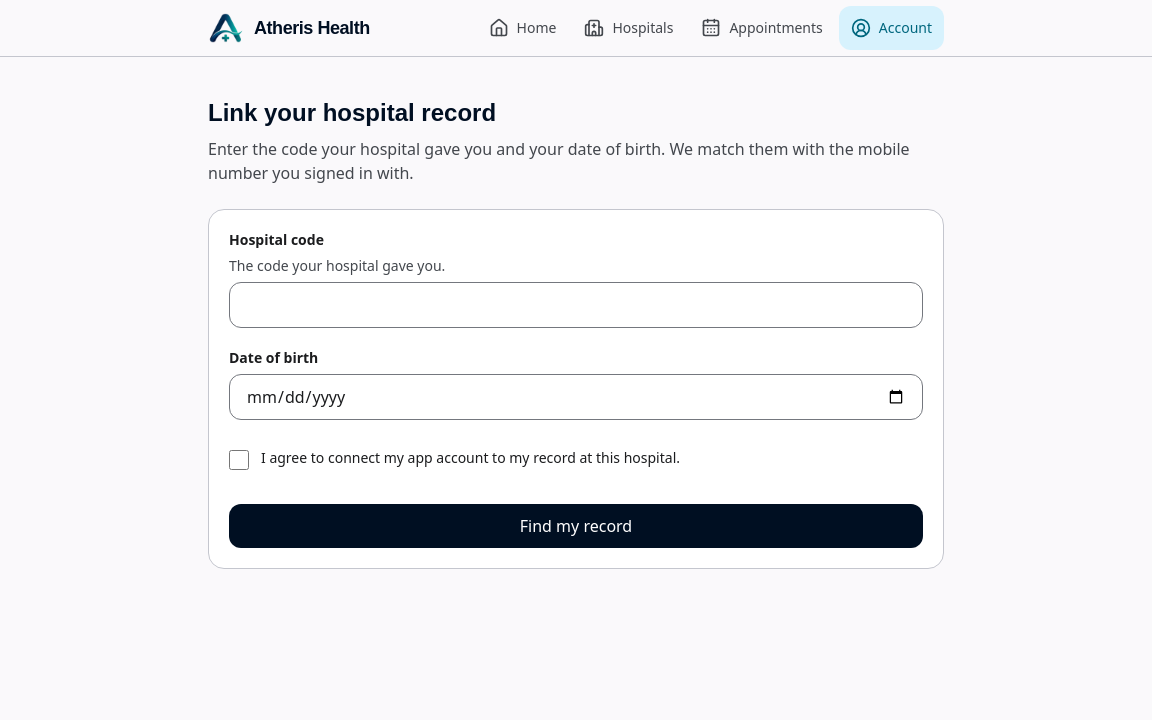
Test: link a hospital record › ALREADY LINKED — a 200 is reported as nothing having changed
Step 1. Type "city-care" into the field labelled "Hospital code" → (576, 305), box [229,282,923,328]
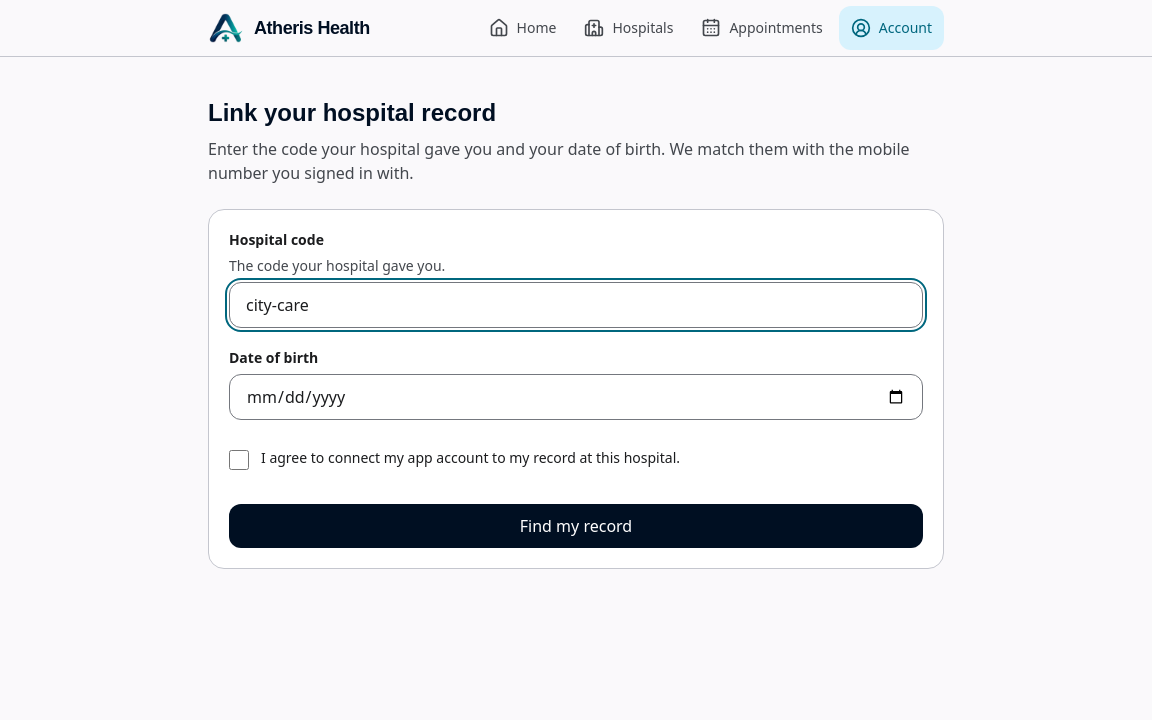
Step 2. Type "1990-05-17" into the date field labelled "Date of birth" → (576, 397), box [229,374,923,420]
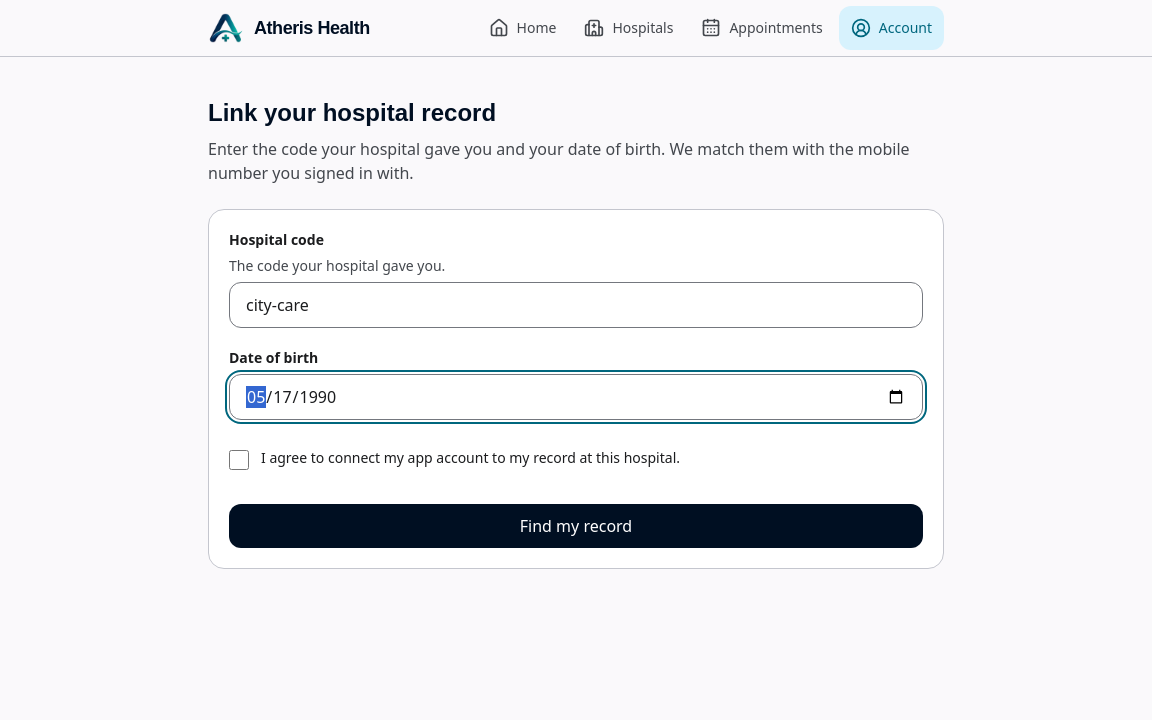
Step 3. Click the checkbox → (239, 460), box [229,450,249,470]
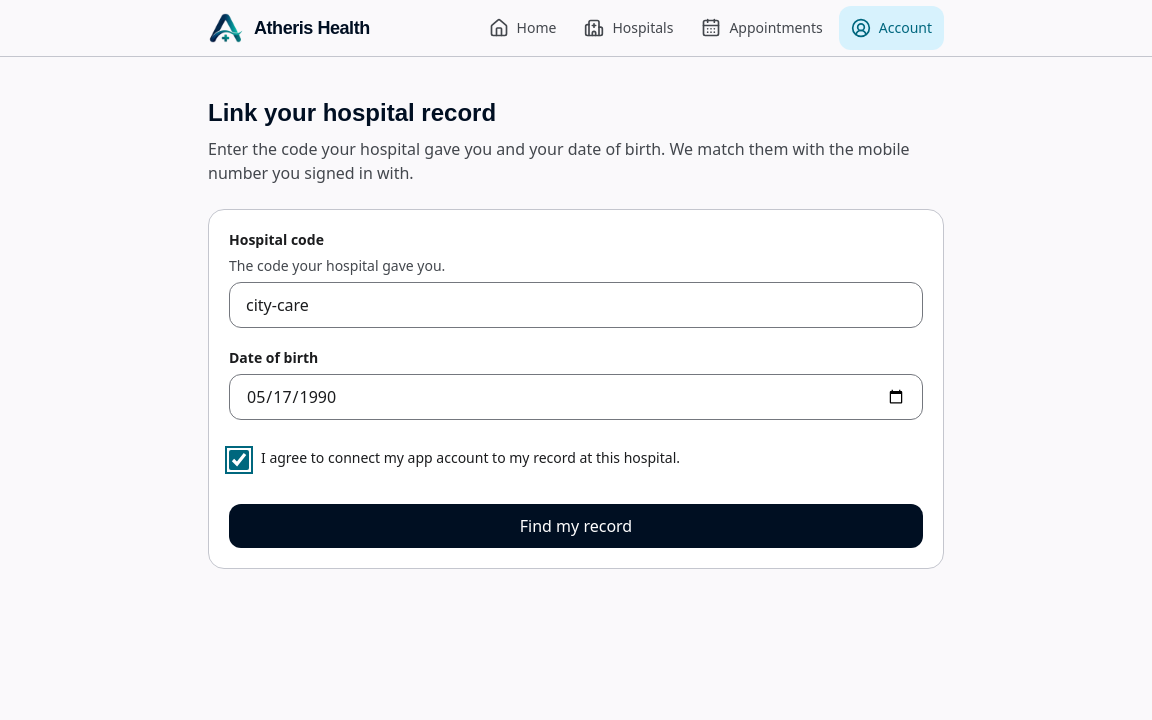
Step 4. Click the button "Find my record" → (576, 526), box [229,504,923,548]
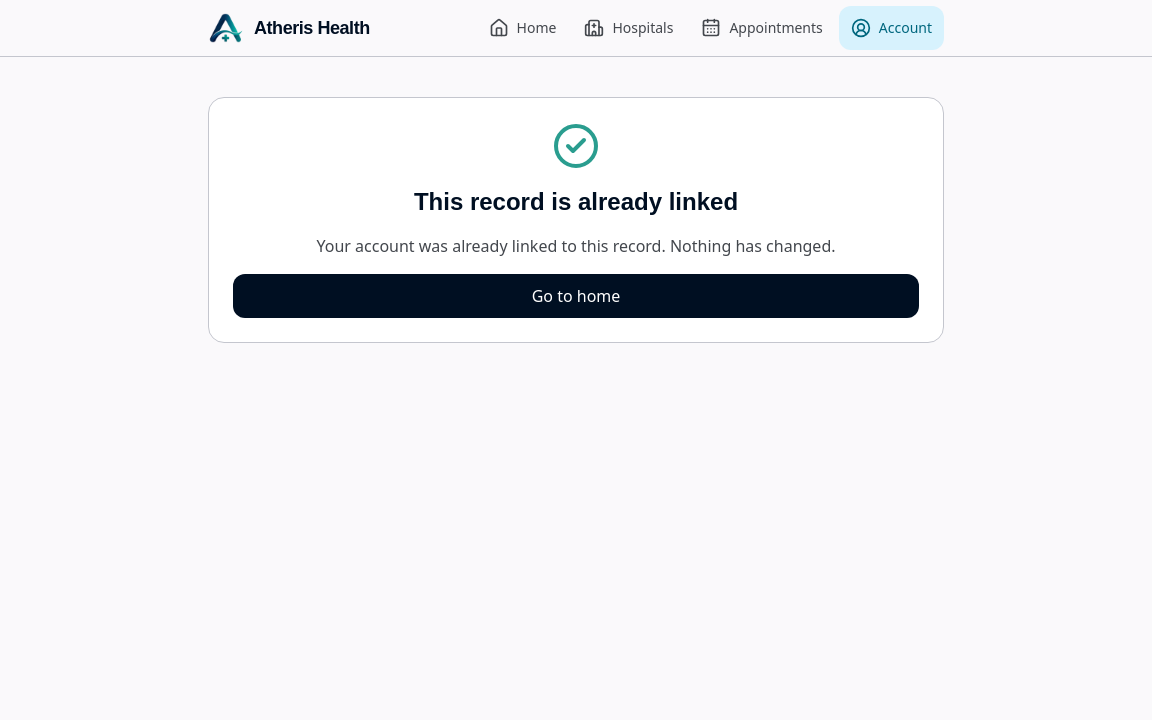
Expected: the heading "This record is already linked" is shown, [414,188,738,215]
